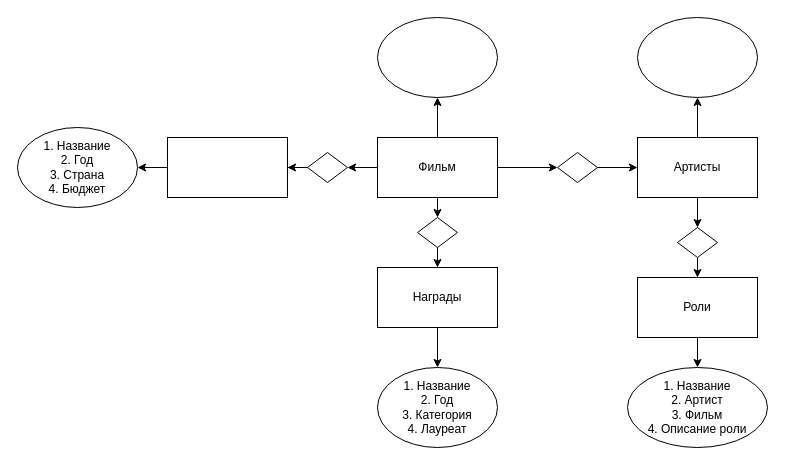
This 785x465 diagram has some shape labels left out. Each missing label, with the centre of its shape:
"1. Имя 2. Дата рождения 3. Страна 4. Жанры" goes at [697,57].
"1. Название 2. Год выпуска 3. Режиссер 4. Жанр" goes at [437,57].
"Кинокомпании" goes at [227,167].
